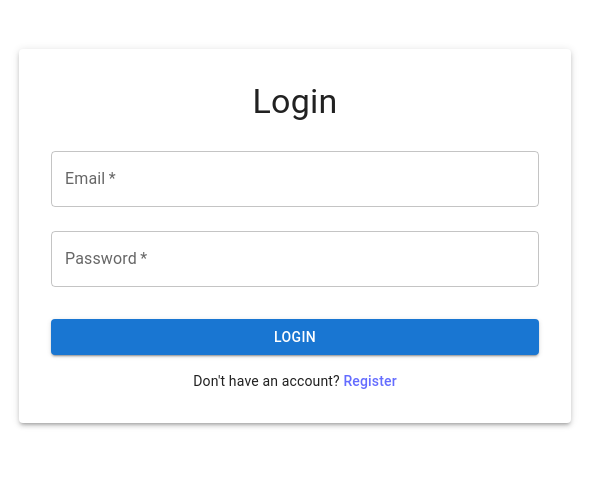
Login Component › handles login error gracefully
// Fill in the form
Type "test@example.com" into the field labelled "Email *".
click(295, 179); type("test@example.com")  # box [51,151,539,207]
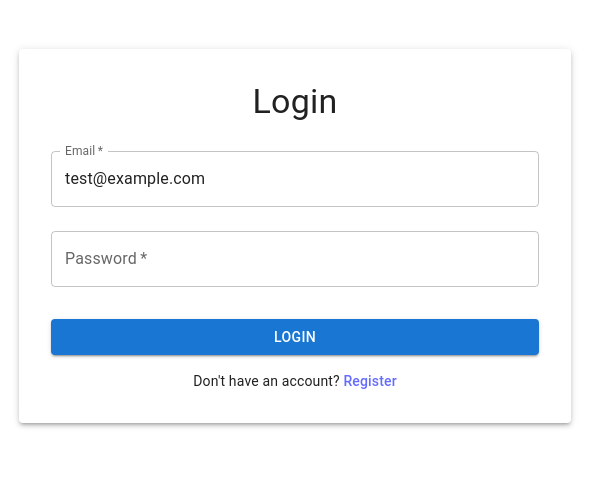
Type "wrongpassword" into the password field labelled "Password *".
click(295, 259); type("wrongpassword")  # box [51,231,539,287]
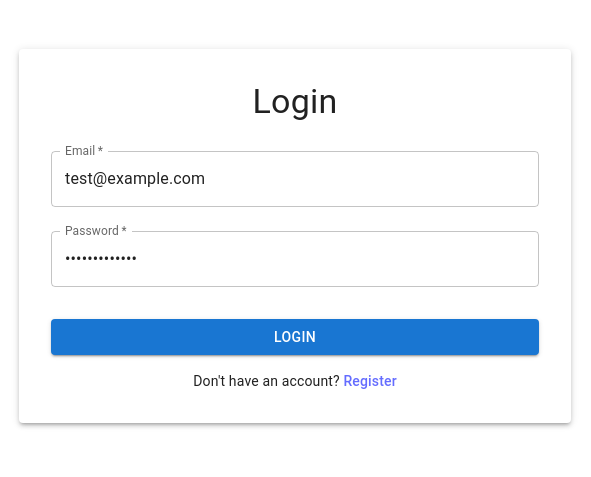
// Submit form
Click the button "Login".
click(295, 337)  # box [51,319,539,355]
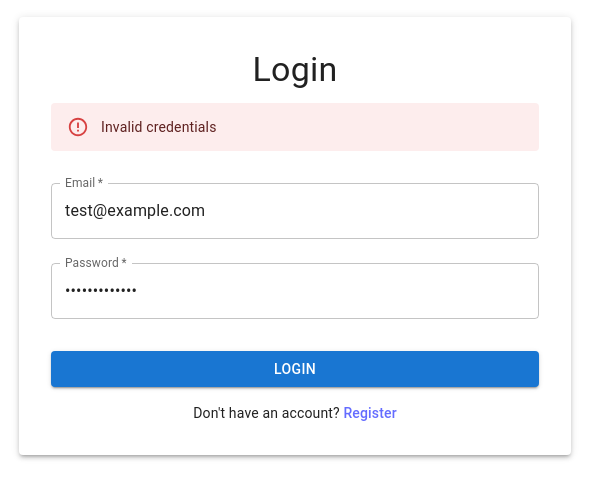
Now the text "Invalid credentials" is shown, box [101,119,216,135]
